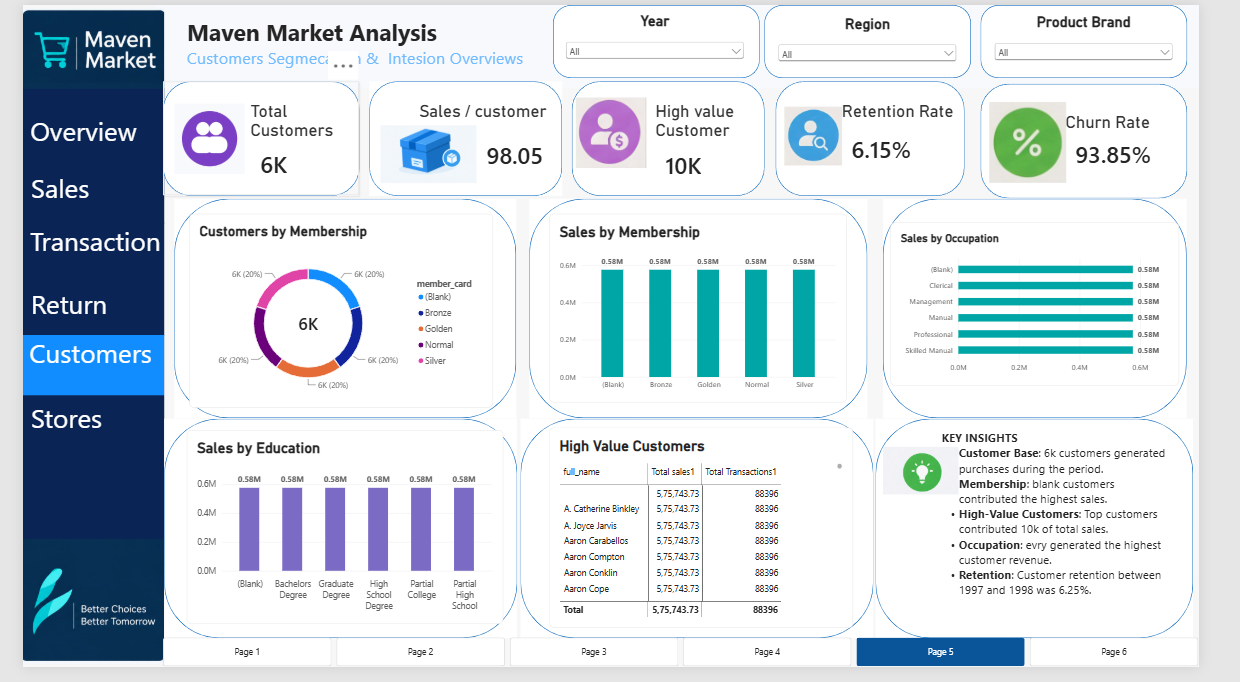

The dashboard page shown, as its layout file describes it:
{"tool":"powerbi","page":{"name":"Page 5","canvas":[1920,1080],"ordinal":4},"visuals":[{"type":"textbox","title":"Maven Market Analysis ","box":[215.7,0,1704.3,135.8],"z":0},{"type":"image","box":[0,0,230.5,156.4],"z":1},{"type":"textbox","box":[0,135.8,230.5,749.2],"z":2},{"type":"image","box":[0,870.1,230.5,209.9],"z":3},{"type":"textbox","box":[0,175,230.5,88.5],"z":4},{"type":"textbox","box":[0,263.5,230.5,92.6],"z":5},{"type":"textbox","box":[0,356.1,230.5,96.7],"z":6},{"type":"textbox","box":[0,452.8,230.5,86.4],"z":7},{"type":"textbox","box":[0,539.3,230.5,98.8],"z":8},{"type":"textbox","box":[0,638.1,230.5,100.9],"z":9},{"type":"shape","box":[864.5,0,337.6,119.4],"z":10},{"type":"slicer","title":"Year","fields":{"Values":["sales.transaction year"]},"box":[881,12.3,300.5,88.5],"z":11},{"type":"shape","box":[1210.3,0,337.6,119.4],"z":12},{"type":"slicer","title":"Region","fields":{"Values":["MavenMarket_Regions.sales_district"]},"box":[1228.8,16.5,300.5,88.5],"z":13},{"type":"shape","box":[1562.3,0,337.6,119.4],"z":14},{"type":"slicer","title":"Product Brand","fields":{"Values":["MavenMarket_Products.product_brand"]},"box":[1580.8,14.4,300.5,88.5],"z":15},{"type":"shape","box":[228.5,123.5,321.1,187.3],"z":16},{"type":"shape","box":[566,123.5,314.9,187.3],"z":17},{"type":"shape","box":[895.4,123.5,314.9,187.3],"z":18},{"type":"shape","box":[1228.8,123.5,308.7,187.3],"z":19},{"type":"shape","box":[1562.3,127.6,337.6,187.3],"z":20},{"type":"cardVisual","title":"Sales / customer","fields":{"Data":["MavenMarket_Customers.sales per customers"]},"box":[646.3,156.4,218.2,127.6],"z":21},{"type":"cardVisual","title":"Total Customers","fields":{"Data":["MavenMarket_Customers.Total Customers"]},"box":[370.5,156.8,156.8,127.3],"z":22},{"type":"cardVisual","title":"High value Customer","fields":{"Data":["MavenMarket_Customers.High-value customers"]},"box":[1033.3,156.4,168.8,127.6],"z":23},{"type":"cardVisual","title":"Retention Rate ","fields":{"Data":["MavenMarket_Customers.Customer Retention Rate"]},"box":[1336.4,156.8,193.5,109.1],"z":24},{"type":"cardVisual","title":"Churn Rate","fields":{"Data":["MavenMarket_Customers.Customer Churn Rate"]},"box":[1702.9,175.5,179.1,88.5],"z":25},{"type":"shape","box":[247,317,558.3,358.3],"z":26},{"type":"donutChart","title":"Customers by Membership","fields":{"Category":["MavenMarket_Customers.member_card"],"Y":["sales.total customers1"]},"box":[271.7,341.7,495.8,316.7],"z":27},{"type":"shape","box":[827.4,317,552.1,358.3],"z":28},{"type":"clusteredColumnChart","title":"Sales by Membership","fields":{"Category":["MavenMarket_Customers.member_card"],"Y":["sales.Total sales1"]},"box":[858.6,341.4,485.4,308.3],"z":29},{"type":"shape","box":[1403.8,317,495.8,358.3],"z":30},{"type":"clusteredBarChart","title":"Sales by Occupation","fields":{"Category":["MavenMarket_Customers.occupation"],"Y":["sales.Total sales1"]},"box":[1416.1,356.1,470.8,266.7],"z":31},{"type":"shape","box":[230.5,675.1,576.3,358.1],"z":32},{"type":"clusteredColumnChart","title":"Sales by Education","fields":{"Category":["MavenMarket_Customers.education"],"Y":["sales.Total sales1"]},"box":[267.6,693.7,516.7,316.7],"z":33},{"type":"shape","box":[813,675.1,576.3,358.1],"z":34},{"type":"tableEx","title":"High Value Customers","fields":{"Values":["MavenMarket_Customers.full_name","sales.Total sales1","sales.Total Transactions1"]},"box":[858.3,689.5,495.8,327.1],"z":35},{"type":"shape","box":[1391.4,675.1,518.8,358.3],"z":36},{"type":"pageNavigator","box":[228.5,1033.3,1691.9,47.3],"z":37},{"type":"image","box":[247,150.3,115.3,133.8],"z":38},{"type":"image","box":[885.1,150.3,148.2,115.3],"z":39},{"type":"image","box":[584.6,175,156.4,135.8],"z":40},{"type":"image","box":[1243.2,156.4,94.7,113.2],"z":41},{"type":"image","box":[1576.7,154.4,125.6,137.9],"z":42},{"type":"textbox","box":[1500,694.3,381.4,317.1],"z":43},{"type":"image","box":[1404.3,710,122.9,100],"z":44}]}

Visuals, with their boxes on the page's 1920x1080 design canvas (x1, y1, x2, y2). These are canvas units, not pixel positions in the 1240x682 screenshot, which may show the page scaled, cropped or inside an application window:
"Maven Market Analysis " textbox: {"x1": 216, "y1": 0, "x2": 1920, "y2": 136}
image: {"x1": 0, "y1": 0, "x2": 230, "y2": 156}
textbox: {"x1": 0, "y1": 136, "x2": 230, "y2": 885}
image: {"x1": 0, "y1": 870, "x2": 230, "y2": 1080}
textbox: {"x1": 0, "y1": 175, "x2": 230, "y2": 264}
textbox: {"x1": 0, "y1": 264, "x2": 230, "y2": 356}
textbox: {"x1": 0, "y1": 356, "x2": 230, "y2": 453}
textbox: {"x1": 0, "y1": 453, "x2": 230, "y2": 539}
textbox: {"x1": 0, "y1": 539, "x2": 230, "y2": 638}
textbox: {"x1": 0, "y1": 638, "x2": 230, "y2": 739}
shape: {"x1": 864, "y1": 0, "x2": 1202, "y2": 119}
"Year" slicer: {"x1": 881, "y1": 12, "x2": 1182, "y2": 101}
shape: {"x1": 1210, "y1": 0, "x2": 1548, "y2": 119}
"Region" slicer: {"x1": 1229, "y1": 16, "x2": 1529, "y2": 105}
shape: {"x1": 1562, "y1": 0, "x2": 1900, "y2": 119}
"Product Brand" slicer: {"x1": 1581, "y1": 14, "x2": 1881, "y2": 103}
shape: {"x1": 228, "y1": 124, "x2": 550, "y2": 311}
shape: {"x1": 566, "y1": 124, "x2": 881, "y2": 311}
shape: {"x1": 895, "y1": 124, "x2": 1210, "y2": 311}
shape: {"x1": 1229, "y1": 124, "x2": 1538, "y2": 311}
shape: {"x1": 1562, "y1": 128, "x2": 1900, "y2": 315}
"Sales / customer" cardVisual: {"x1": 646, "y1": 156, "x2": 864, "y2": 284}
"Total Customers" cardVisual: {"x1": 370, "y1": 157, "x2": 527, "y2": 284}
"High value Customer" cardVisual: {"x1": 1033, "y1": 156, "x2": 1202, "y2": 284}
"Retention Rate " cardVisual: {"x1": 1336, "y1": 157, "x2": 1530, "y2": 266}
"Churn Rate" cardVisual: {"x1": 1703, "y1": 176, "x2": 1882, "y2": 264}
shape: {"x1": 247, "y1": 317, "x2": 805, "y2": 675}
"Customers by Membership" donutChart: {"x1": 272, "y1": 342, "x2": 768, "y2": 658}
shape: {"x1": 827, "y1": 317, "x2": 1380, "y2": 675}
"Sales by Membership" clusteredColumnChart: {"x1": 859, "y1": 341, "x2": 1344, "y2": 650}
shape: {"x1": 1404, "y1": 317, "x2": 1900, "y2": 675}
"Sales by Occupation" clusteredBarChart: {"x1": 1416, "y1": 356, "x2": 1887, "y2": 623}
shape: {"x1": 230, "y1": 675, "x2": 807, "y2": 1033}
"Sales by Education" clusteredColumnChart: {"x1": 268, "y1": 694, "x2": 784, "y2": 1010}
shape: {"x1": 813, "y1": 675, "x2": 1389, "y2": 1033}
"High Value Customers" tableEx: {"x1": 858, "y1": 690, "x2": 1354, "y2": 1017}
shape: {"x1": 1391, "y1": 675, "x2": 1910, "y2": 1033}
pageNavigator: {"x1": 228, "y1": 1033, "x2": 1920, "y2": 1081}
image: {"x1": 247, "y1": 150, "x2": 362, "y2": 284}
image: {"x1": 885, "y1": 150, "x2": 1033, "y2": 266}
image: {"x1": 585, "y1": 175, "x2": 741, "y2": 311}
image: {"x1": 1243, "y1": 156, "x2": 1338, "y2": 270}
image: {"x1": 1577, "y1": 154, "x2": 1702, "y2": 292}
textbox: {"x1": 1500, "y1": 694, "x2": 1881, "y2": 1011}
image: {"x1": 1404, "y1": 710, "x2": 1527, "y2": 810}
